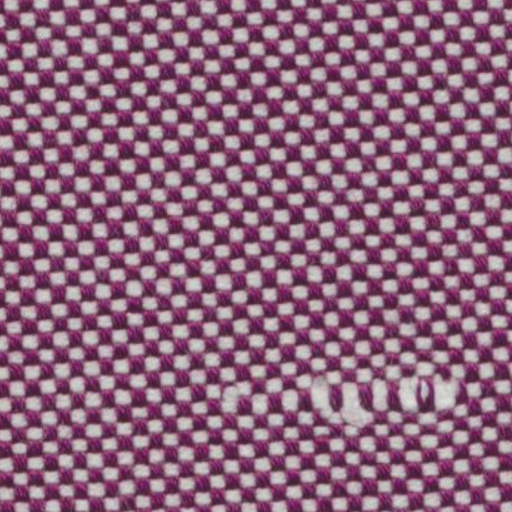DaiSha: (192, 354, 488, 434)
